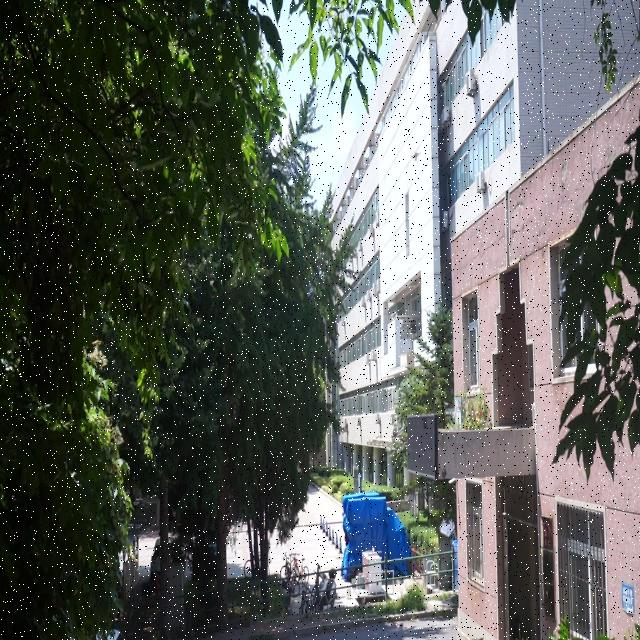UAV: (410, 150, 420, 162)
